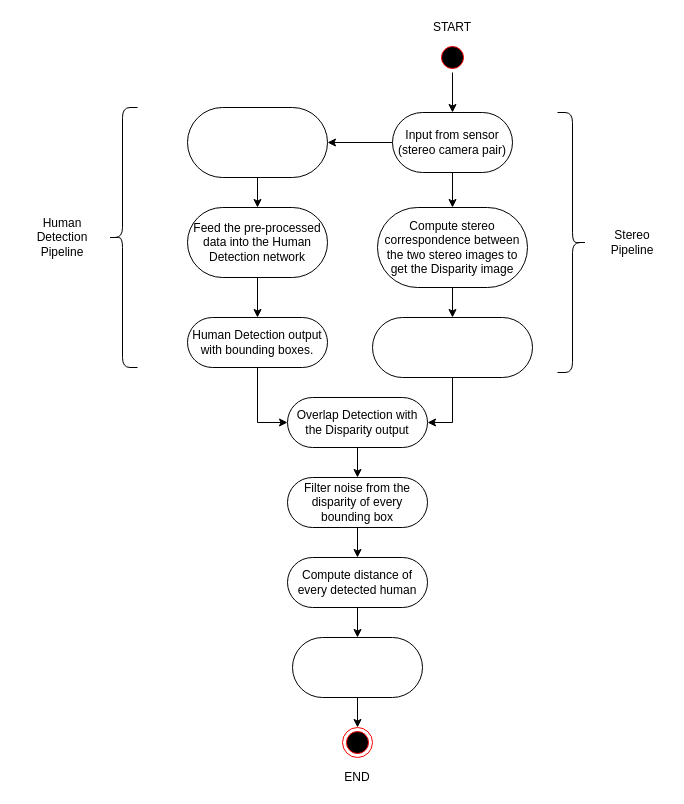
Some shapes in this 684 by 804 pixel diagram are drawn without their labels. Here are the shapes that lost their labels. From the top down, the box of each, then its label:
(186, 106, 328, 178): Pre-process the left image from the stereo pair for the detection module
(372, 316, 532, 378): Compute depth (distance from the sensor) using the Disparity image
(292, 636, 422, 698): Return the location of the humans with respect to the vehicle
